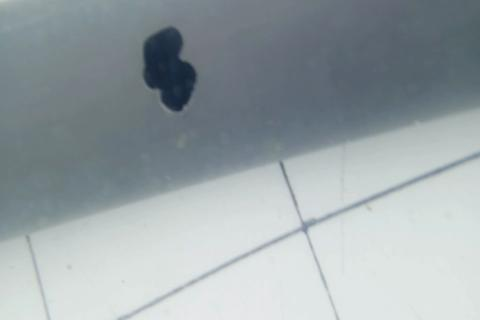kebocoran: (141, 26, 197, 113)
